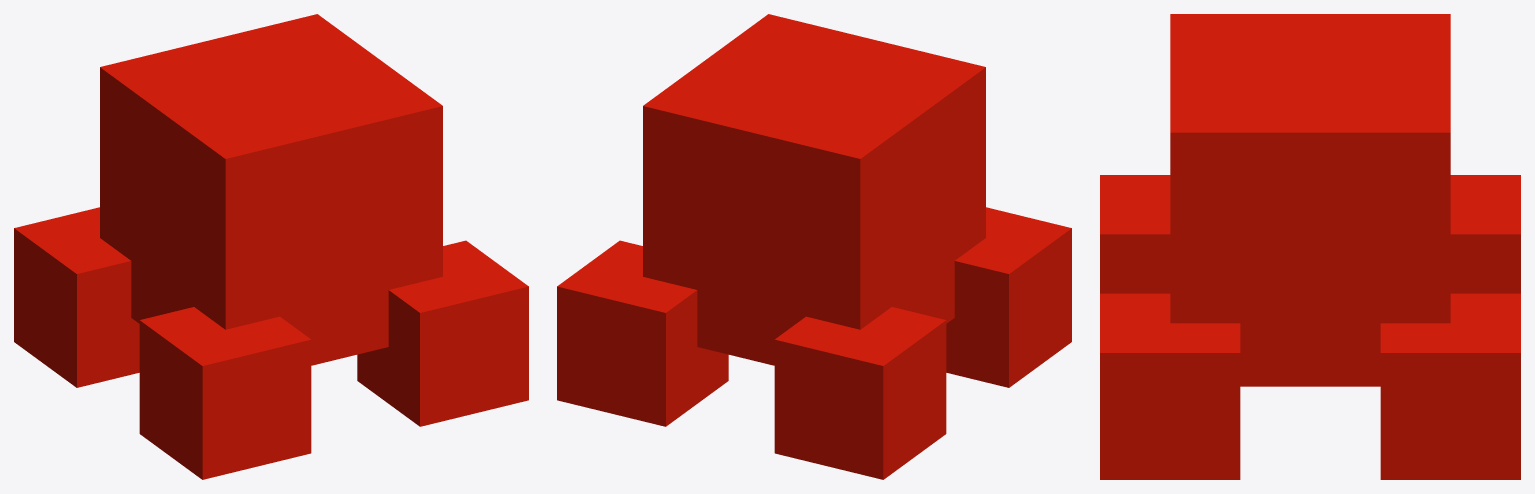
The picture shows the model from 3 angles, left to right: view 1: azimuth 30°, elevation 25°; view 2: azimuth 150°, elevation 25°; view 3: azimuth 270°, elevation 25°; orthographic projection. The views are drawn at different scales.
Visible parts, largest first — view 1: Cube, Cube.004, Cube.002, Cube.003; view 2: Cube, Cube.003, Cube.001, Cube.004; view 3: Cube, Cube.001, Cube.002, Cube.003, Cube.004.
Boxes of the visible parts, x1,y1,x2,y2 form: Cube: (100,14,442,365); Cube.004: (139,307,311,479); Cube.002: (357,240,528,426); Cube.003: (14,207,139,387); Cube: (643,14,985,365); Cube.003: (774,307,946,479); Cube.001: (557,240,728,426); Cube.004: (946,207,1071,387); Cube: (1170,14,1450,386); Cube.001: (1380,293,1520,479); Cube.002: (1100,293,1240,479); Cube.003: (1450,175,1520,293); Cube.004: (1100,175,1170,293).
Bounding box in the file's own units: 3 × 2.5 × 3.
